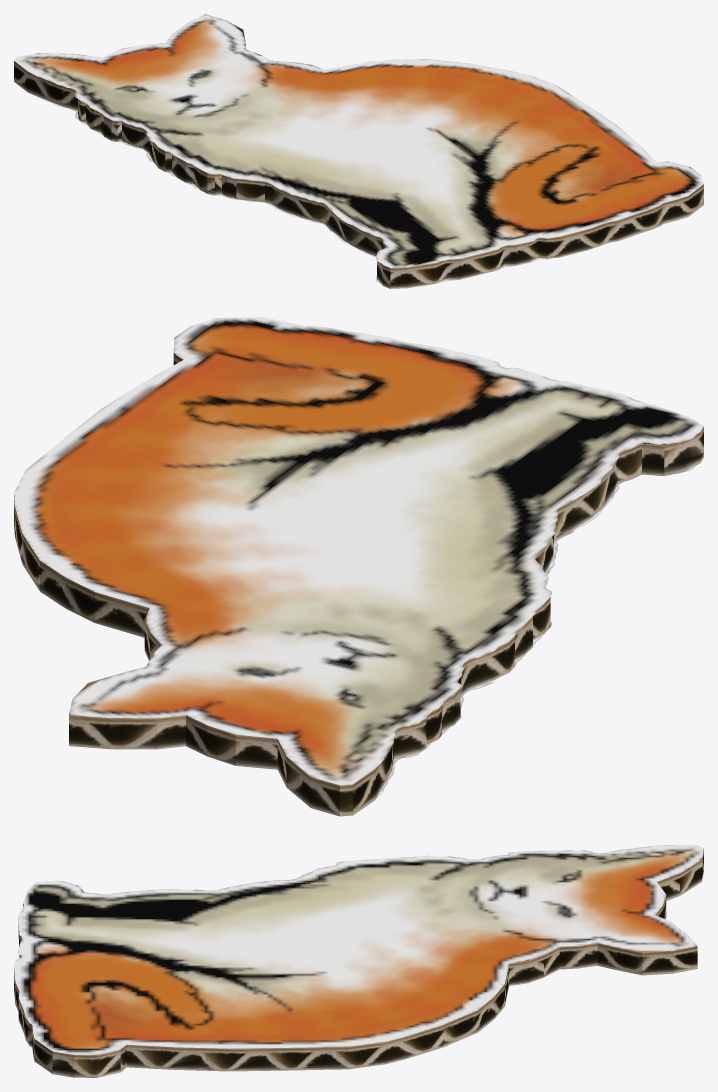
Rendered from catMute.fbx.
3 views of the same model, one above another, from view 1: azimuth 30°, elevation 25°; view 2: azimuth 150°, elevation 25°; view 3: azimuth 270°, elevation 25° (orthographic). The views are drawn at different scales.
Parts seen in each view (by area): view 1: Plane; view 2: Plane; view 3: Plane.
Boxes of the visible parts, x1,y1,x2,y2 form: Plane: (14, 14, 703, 288); Plane: (14, 317, 703, 816); Plane: (14, 845, 703, 1077).
Bounding box in the file's own units: 0.9967 × 0.05 × 1.38.
